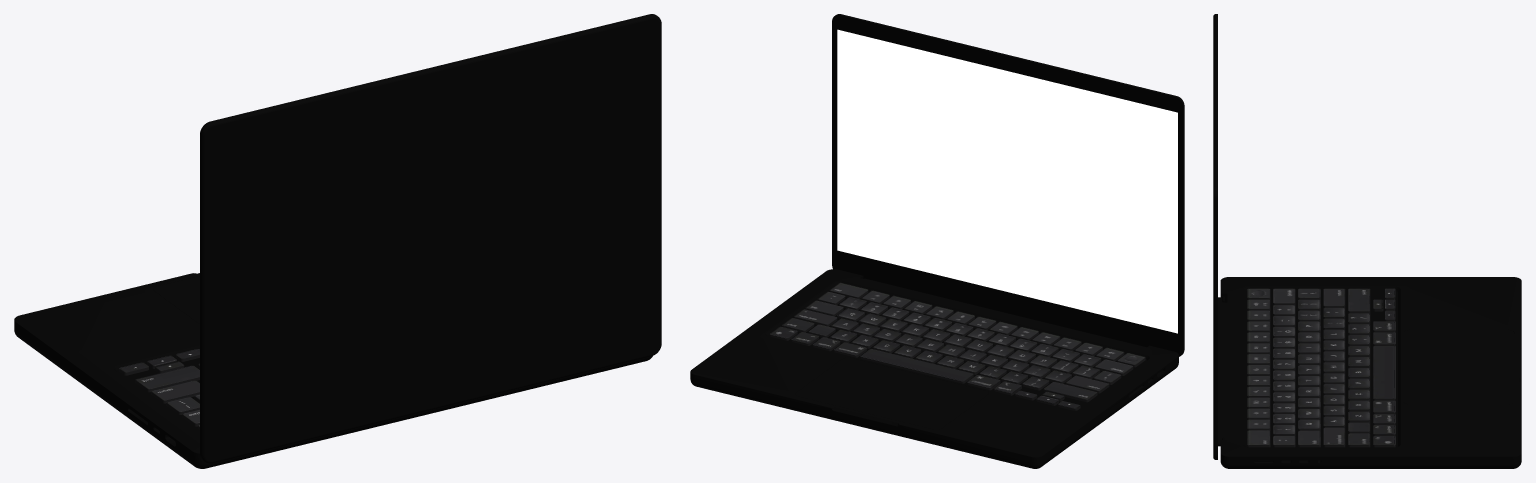
The model's file is MacbookPro1080.glb.
The picture shows the model from 3 angles, left to right: view 1: azimuth 30°, elevation 25°; view 2: azimuth 150°, elevation 25°; view 3: azimuth 270°, elevation 25°; orthographic projection. The views are drawn at different scales.
Visible parts, largest first — view 1: body_10, body_2, Macbook Pro v10_Macbook Pro v10_Body6, body_1; view 2: Macbook Pro v2_Macbook Pro v2_Body83, body_2, Macbook Pro v10_Macbook Pro v10_Body6, Macbook Pro v2_Macbook Pro v2_Body85, body_1, body_10; view 3: body_2, Macbook Pro v10_Macbook Pro v10_Body6, body_1, body_10.
Boxes of the visible parts, left/top/right/bottom form: body_10: left=200, top=14, right=661, bottom=463; body_2: left=14, top=273, right=652, bottom=468; Macbook Pro v10_Macbook Pro v10_Body6: left=119, top=349, right=199, bottom=430; body_1: left=153, top=276, right=199, bottom=323; Macbook Pro v2_Macbook Pro v2_Body83: left=837, top=29, right=1177, bottom=333; body_2: left=690, top=269, right=1178, bottom=468; Macbook Pro v10_Macbook Pro v10_Body6: left=770, top=282, right=1145, bottom=410; Macbook Pro v2_Macbook Pro v2_Body85: left=833, top=16, right=1181, bottom=355; body_1: left=795, top=357, right=988, bottom=429; body_10: left=832, top=14, right=1184, bottom=356; body_2: left=1220, top=277, right=1521, bottom=468; Macbook Pro v10_Macbook Pro v10_Body6: left=1247, top=288, right=1395, bottom=447; body_1: left=1403, top=329, right=1513, bottom=404; body_10: left=1213, top=14, right=1224, bottom=459.
Size of the model in its own units: 5.77 by 4.2 by 4.18.
4 materials, 1 textured.
